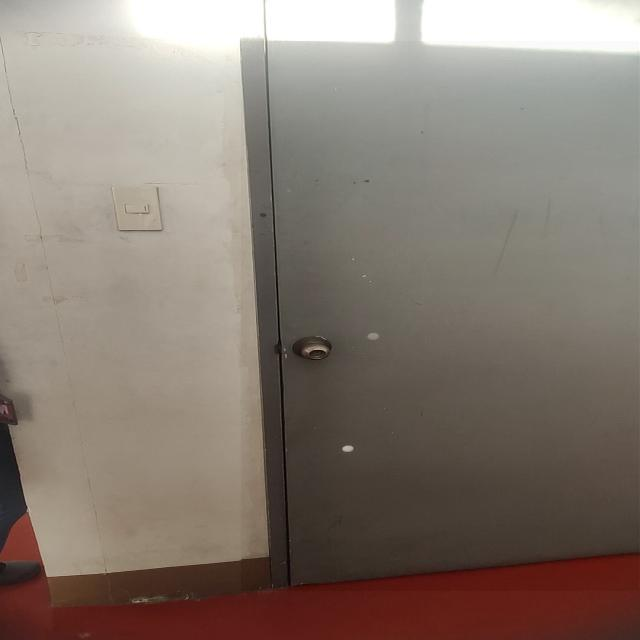door: (242, 41, 640, 591)
